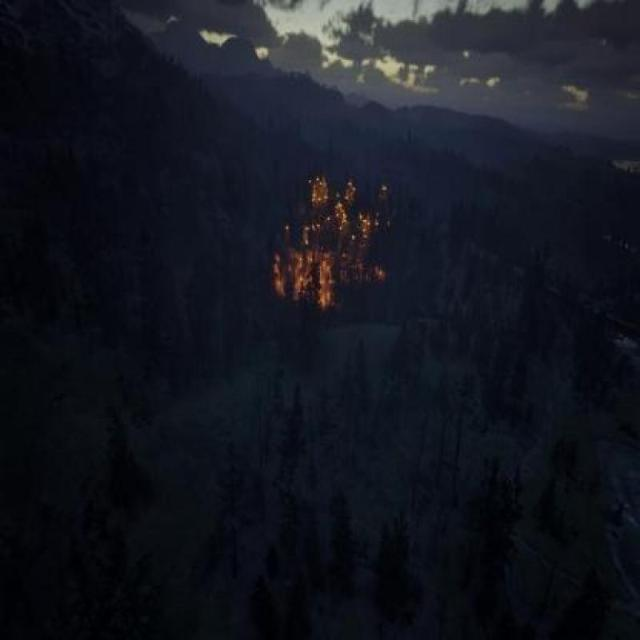Fire: (267, 163, 398, 320)
